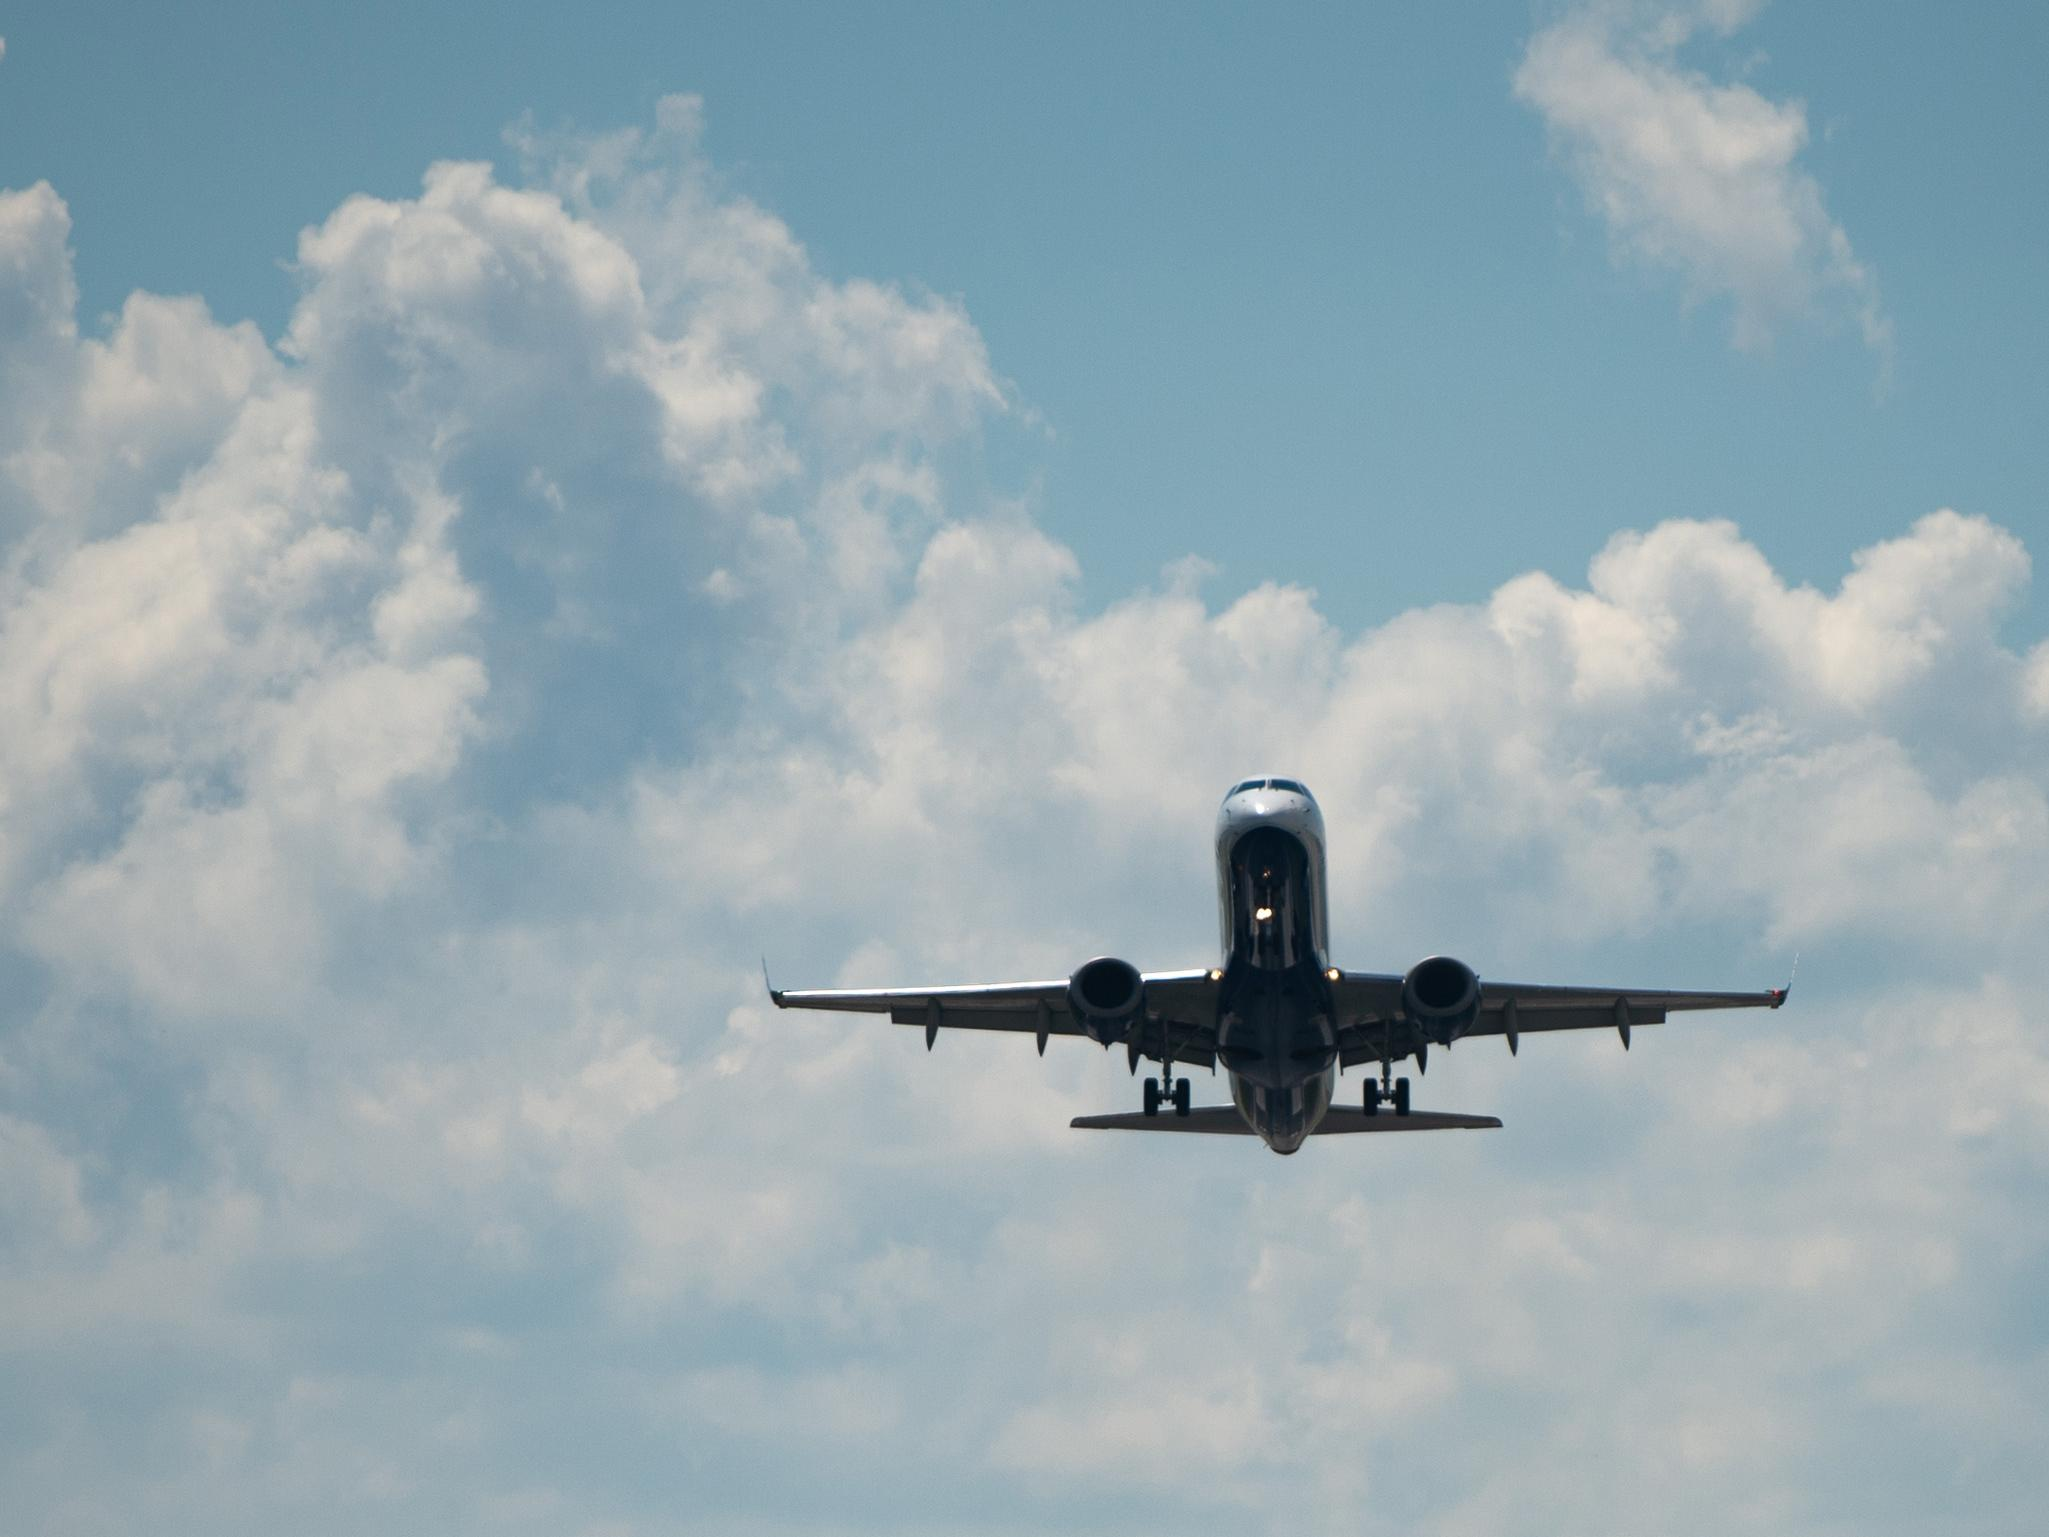aeroplane: (748, 757, 1808, 1158)
